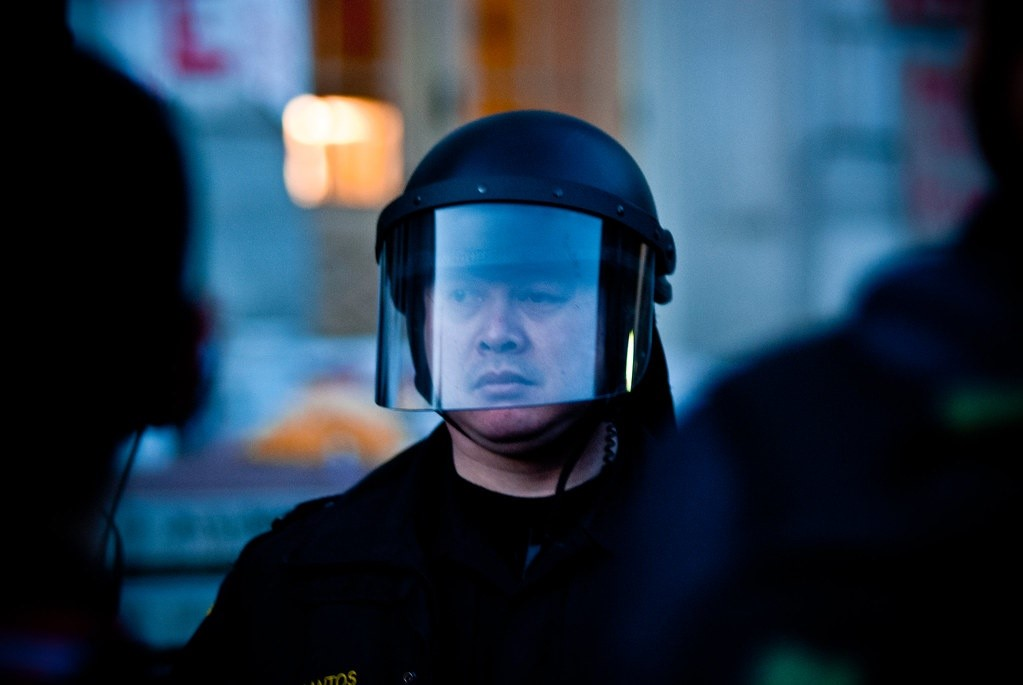face_no_mask: (416, 236, 603, 438)
